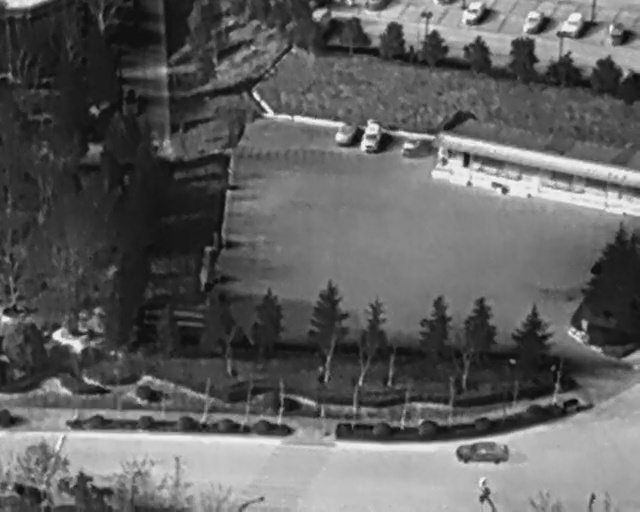Car: (554, 5, 590, 45), (454, 440, 511, 465), (330, 118, 359, 152), (360, 120, 383, 157), (465, 1, 489, 26), (525, 8, 545, 33)
OtherVehicle: (402, 137, 422, 156)
